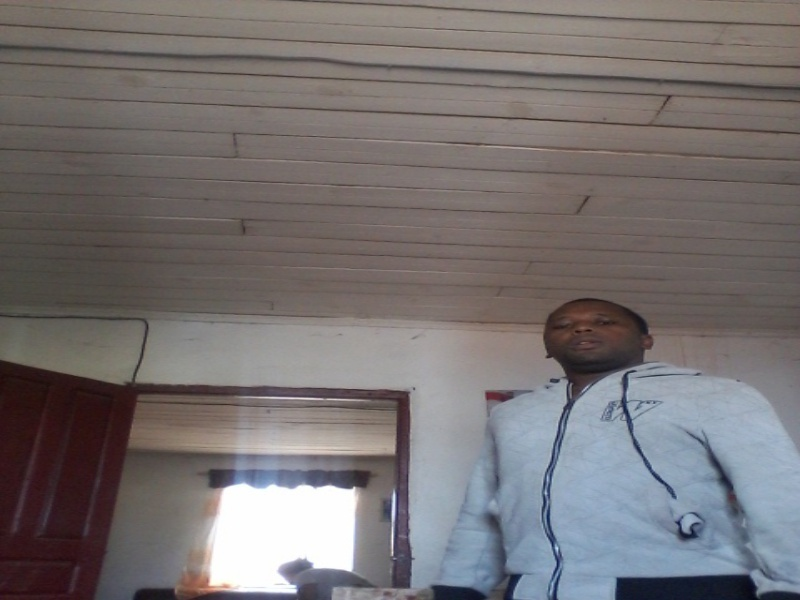TsisyArotava: (536, 288, 662, 383)
